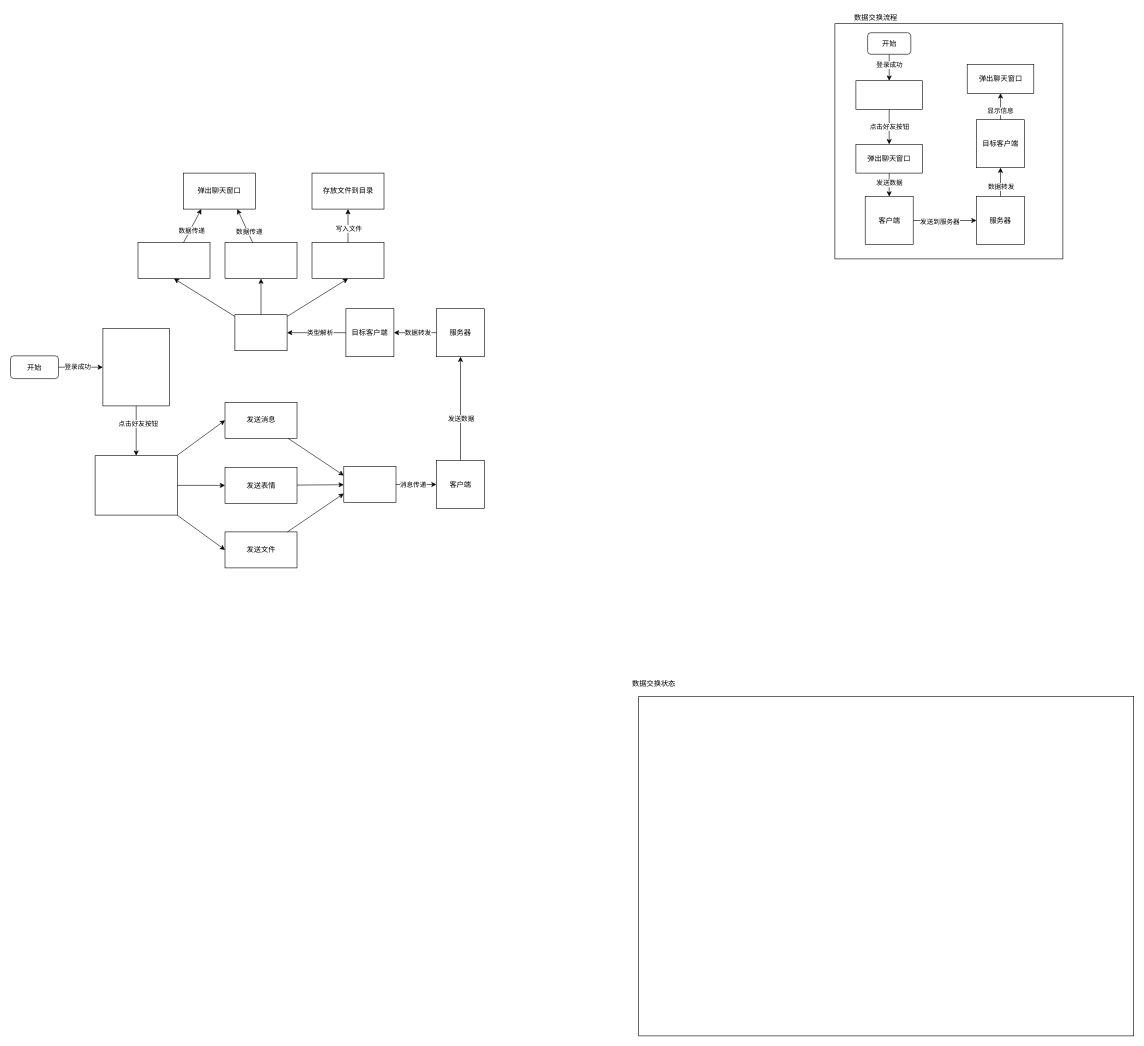
Some shapes in this 1144 by 1046 pixel diagram are drawn without their labels. Each missing label, with the centre of its shape:
好友列表: [888,95]
好友列表 【按钮：好友A】 【按钮：好友B】 【......】 【按钮：好友申请】: [136,367]
接收解析器: [260,332]
文件类型: [347,260]
消息类型: [173,260]
网络连接层: [369,484]
聊天窗口 【提示区：好友信息】 【消息区：接收内容】 【输入区：发送数据】: [135,485]
表情类型: [260,260]
